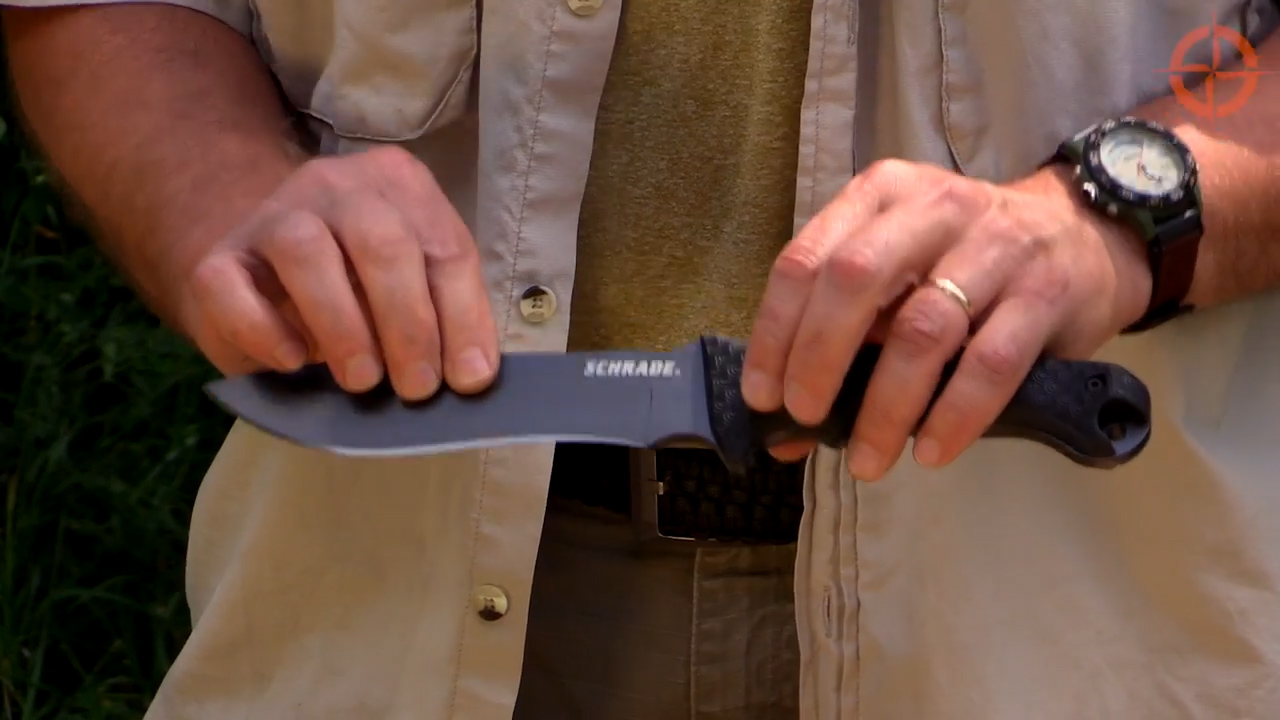knife: (186, 322, 1171, 493)
